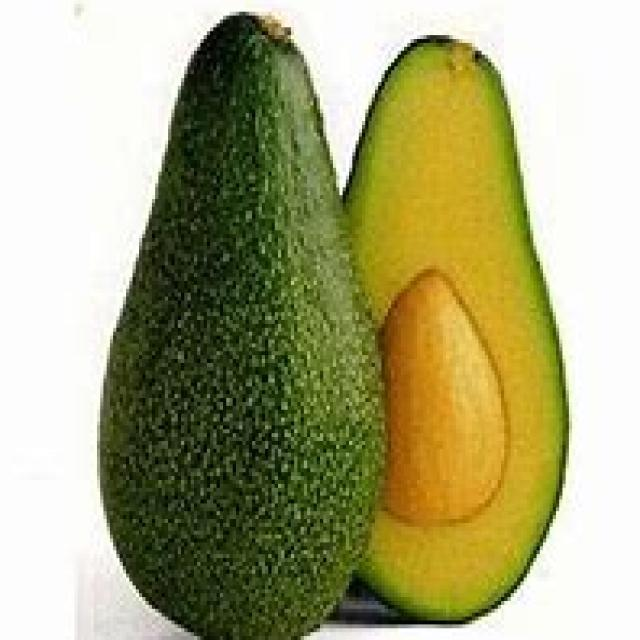avocado: (92, 0, 382, 640)
